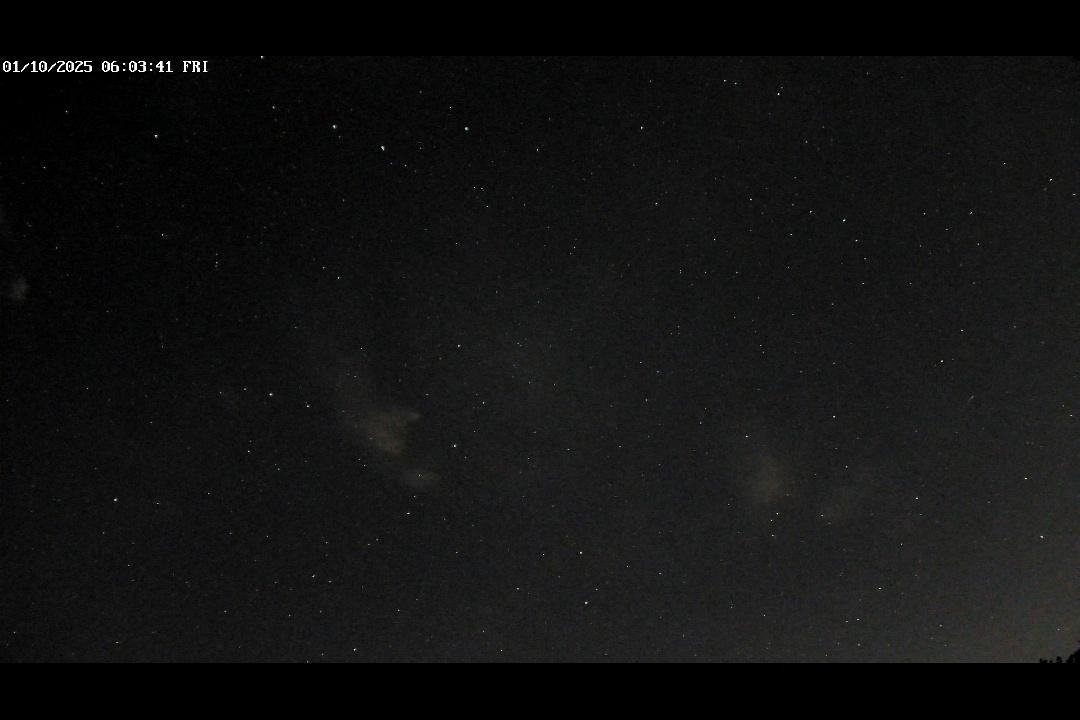Plane: (961, 391, 980, 410)
